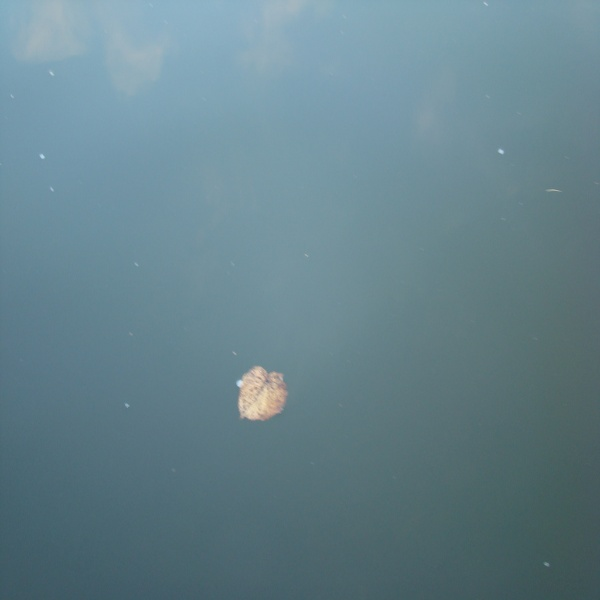Jellyfish: (238, 366, 294, 428)
